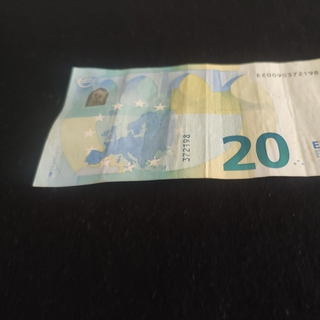20EUROBack: (32, 56, 320, 188)
